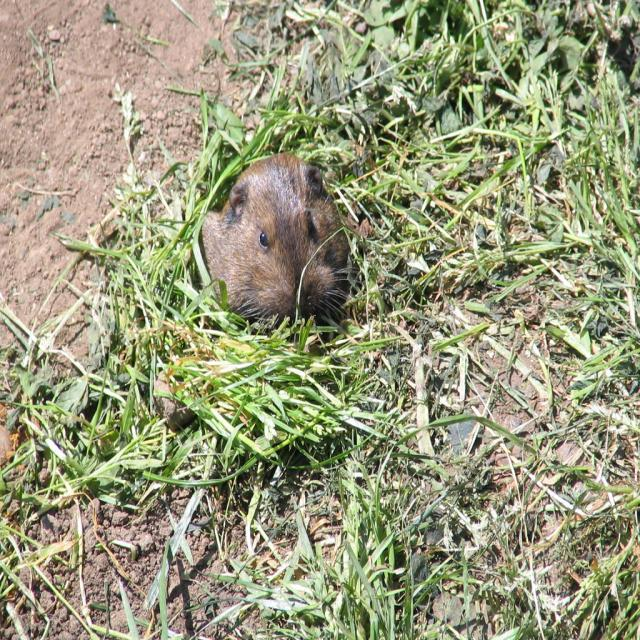rat: (187, 153, 356, 344)
